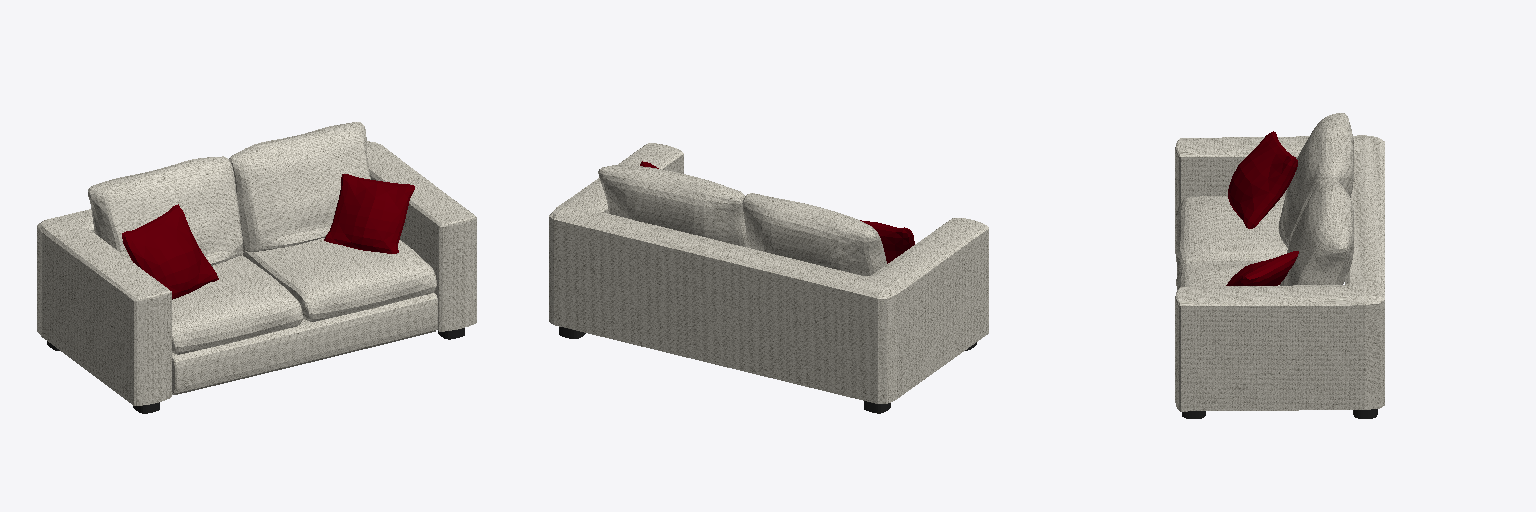
The picture shows the model from 3 angles: view 1: azimuth 30°, elevation 25°; view 2: azimuth 150°, elevation 25°; view 3: azimuth 270°, elevation 25°; orthographic projection.
Parts seen in each view (by area): view 1: back_Plane.005, bigcushion2.002_Cube.024, base_Cube.021, bigcushion2_Cube.022, base_big_cushion2_Cube.001, base_big_cushion_Cube, cushion_dark_Cube.018, cushion_clear_Cube.019; view 2: back_Plane.005, bigcushion2.002_Cube.024, bigcushion2_Cube.022, cushion_clear_Cube.019; view 3: back_Plane.005, base_big_cushion_Cube, bigcushion2.002_Cube.024, bigcushion2_Cube.022, cushion_clear_Cube.019, base_big_cushion2_Cube.001, cushion_dark_Cube.018.
Part boxes in pixels (x1,y1,x2,y2): back_Plane.005: (37, 141, 476, 405); bigcushion2.002_Cube.024: (229, 122, 370, 251); base_Cube.021: (172, 292, 437, 394); bigcushion2_Cube.022: (88, 156, 243, 265); base_big_cushion2_Cube.001: (243, 238, 436, 321); base_big_cushion_Cube: (172, 255, 302, 354); cushion_dark_Cube.018: (324, 174, 414, 253); cushion_clear_Cube.019: (122, 204, 218, 299); back_Plane.005: (549, 143, 988, 403); bigcushion2.002_Cube.024: (598, 165, 749, 247); bigcushion2_Cube.022: (742, 193, 886, 275); cushion_clear_Cube.019: (860, 220, 914, 263); back_Plane.005: (1175, 135, 1384, 411); base_big_cushion_Cube: (1176, 195, 1287, 274); bigcushion2.002_Cube.024: (1280, 177, 1353, 285); bigcushion2_Cube.022: (1279, 113, 1353, 247); cushion_clear_Cube.019: (1228, 131, 1297, 228); base_big_cushion2_Cube.001: (1176, 261, 1279, 289); cushion_dark_Cube.018: (1226, 251, 1298, 285).
Size of the model in its own units: 170 by 79.72 by 89.96.
Materials: 4 (1 with a texture image).